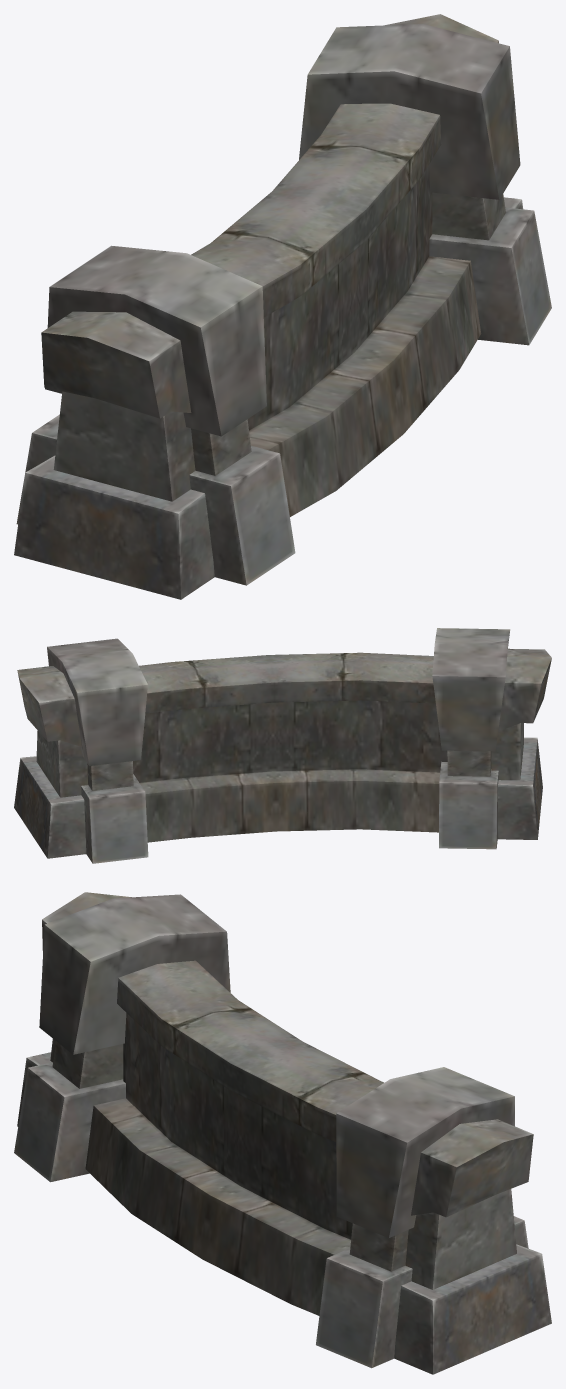
The model's file is Tower_B_3.fbx.
3 views of the same model, one above another, from view 1: azimuth 30°, elevation 25°; view 2: azimuth 150°, elevation 25°; view 3: azimuth 270°, elevation 25° (orthographic). The views are drawn at different scales.
Parts seen in each view (by area): view 1: Tower_B_3__8_; view 2: Tower_B_3__8_; view 3: Tower_B_3__8_.
Part boxes in pixels (x1,y1,x2,y2): Tower_B_3__8_: (14, 14, 551, 599); Tower_B_3__8_: (14, 628, 551, 863); Tower_B_3__8_: (14, 892, 551, 1374).
Bounding box in the file's own units: 0.8466 × 0.3186 × 0.6828.
1 material, 1 textured.
